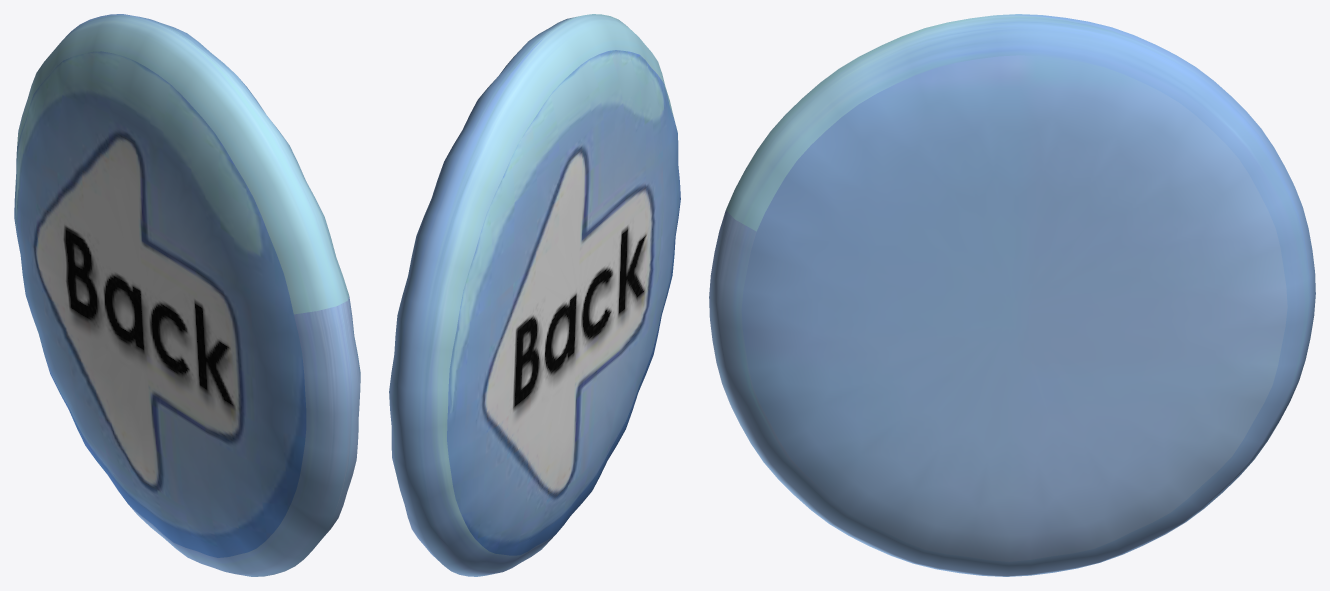
Rendered from BackButton2.fbx.
3 views of the same model, side by side, from view 1: azimuth 30°, elevation 25°; view 2: azimuth 150°, elevation 25°; view 3: azimuth 270°, elevation 25° (orthographic). The views are drawn at different scales.
Parts seen in each view (by area): view 1: BackButton1; view 2: BackButton1; view 3: BackButton1.
Part boxes in pixels (<box>): BackButton1: <box>14,14,360,576</box>; BackButton1: <box>389,14,680,576</box>; BackButton1: <box>709,14,1315,576</box>.
Bounding box in the file's own units: 0.4132 × 1.91 × 1.91.
Materials: 1 (1 with a texture image).
